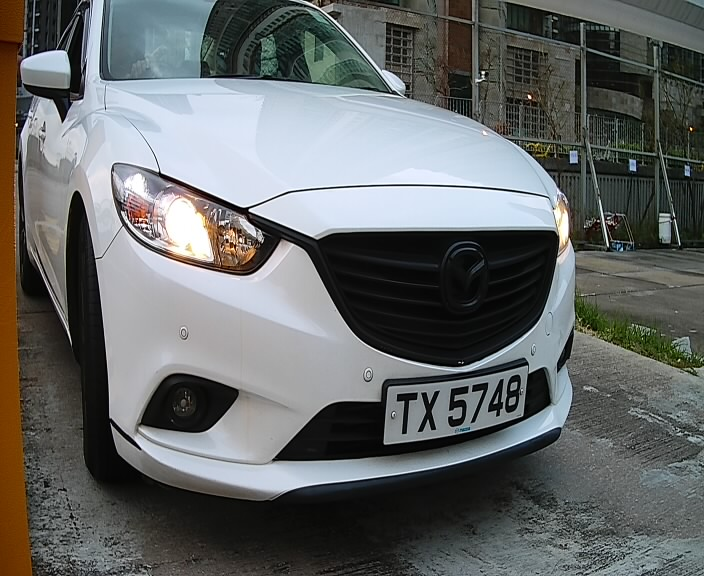License Plate: (377, 360, 537, 454)
